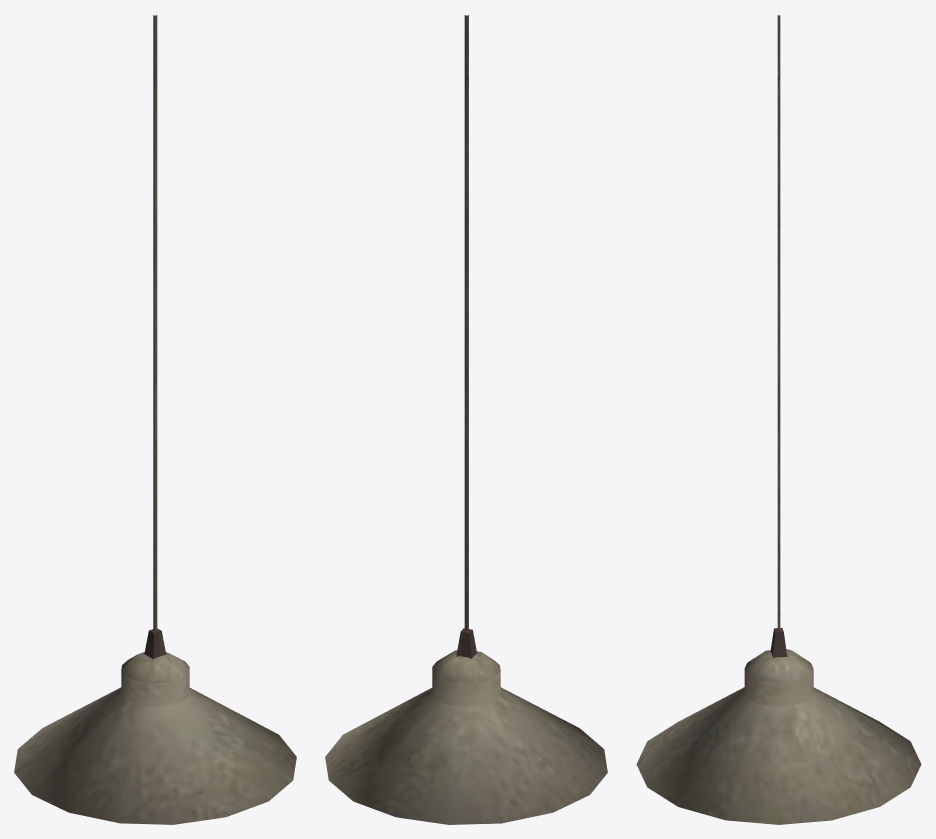
Rendered from prison_lamp001b.glb.
3 renders of one model, left to right at view 1: azimuth 30°, elevation 25°; view 2: azimuth 150°, elevation 25°; view 3: azimuth 270°, elevation 25°, orthographic.
Parts seen in each view (by area): view 1: 0_prison_lamp001a; view 2: 0_prison_lamp001a; view 3: 0_prison_lamp001a.
Part boxes in pixels (box(x1,y1,x2,y2)): 0_prison_lamp001a: box(14, 15, 296, 824); 0_prison_lamp001a: box(325, 15, 607, 824); 0_prison_lamp001a: box(636, 15, 921, 824).
Size of the model in its own units: 0.5429 by 1.58 by 0.5429.
Materials: 1 (1 with a texture image).
